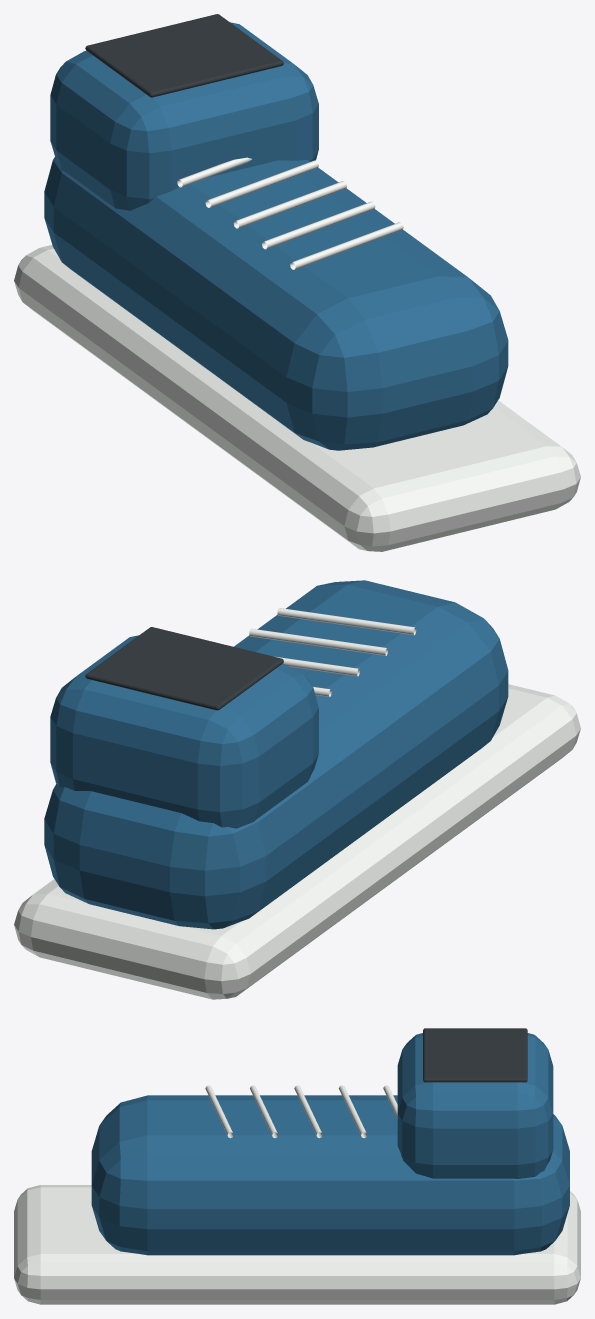
Rendered from Zapatilla.fbx.
3 renders of one model, top to bottom at view 1: azimuth 30°, elevation 25°; view 2: azimuth 150°, elevation 25°; view 3: azimuth 270°, elevation 25°, orthographic. The views are drawn at different scales.
Visible parts, largest first — view 1: Empeine, Suela, Tobillo, Abertura, Cordon.001, Cordon.003, Cordon, Cordon.002; view 2: Empeine, Suela, Tobillo, Abertura, Cordon, Cordon.001, Cordon.002; view 3: Empeine, Suela, Tobillo, Abertura, Cordon.003, Cordon, Cordon.001, Cordon.002.
Part boxes in pixels (bbox=[...]): Empeine: bbox=[44, 157, 508, 450]; Suela: bbox=[14, 245, 580, 551]; Tobillo: bbox=[50, 22, 318, 210]; Abertura: bbox=[85, 14, 283, 97]; Cordon.001: bbox=[262, 201, 375, 249]; Cordon.003: bbox=[205, 160, 318, 207]; Cordon: bbox=[290, 222, 403, 269]; Cordon.002: bbox=[233, 181, 346, 228]; Empeine: bbox=[44, 580, 508, 929]; Suela: bbox=[14, 684, 580, 999]; Tobillo: bbox=[50, 635, 318, 828]; Abertura: bbox=[85, 627, 283, 710]; Cordon: bbox=[277, 608, 416, 635]; Cordon.001: bbox=[249, 628, 387, 655]; Cordon.002: bbox=[273, 656, 359, 676]; Empeine: bbox=[91, 1095, 569, 1255]; Suela: bbox=[14, 1185, 580, 1304]; Tobillo: bbox=[397, 1033, 553, 1178]; Abertura: bbox=[423, 1028, 527, 1082]; Cordon.003: bbox=[338, 1085, 367, 1138]; Cordon: bbox=[205, 1085, 233, 1138]; Cordon.001: bbox=[250, 1085, 278, 1138]; Cordon.002: bbox=[294, 1085, 322, 1138].
Bounding box in the file's own units: 9.5 × 10.7 × 25.5.
